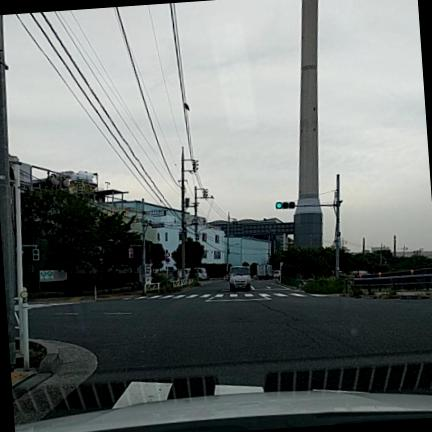Road: (30, 281, 431, 414)
